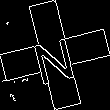N_N: (29, 26, 81, 84)
